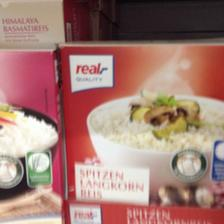Reis: (57, 37, 222, 206), (0, 46, 62, 222)
